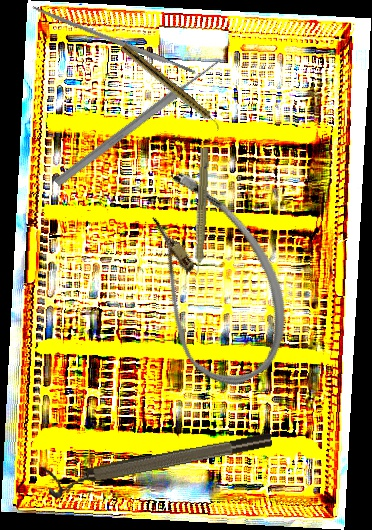Cannula: (104, 156, 317, 401)
Fixation Ring: (44, 428, 276, 500)
Handpiece: (118, 43, 225, 132), (188, 147, 212, 283)
Pusher: (52, 54, 226, 189)
Scalpel Handle: (31, 4, 197, 77)
